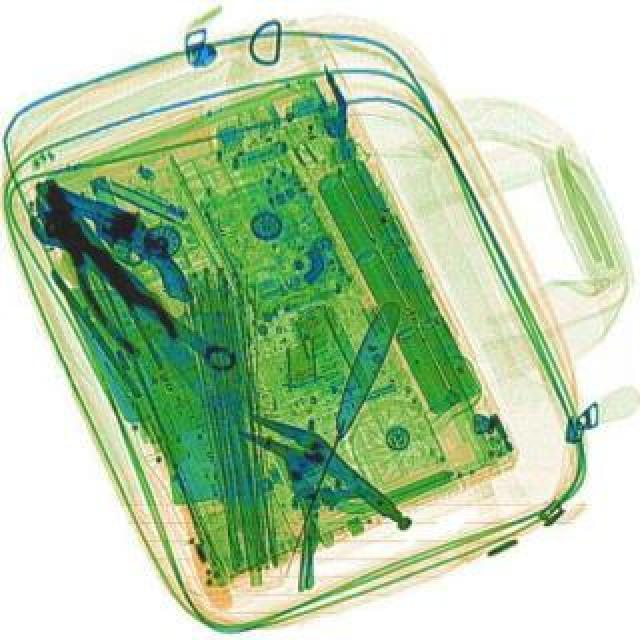gun: (16, 178, 212, 302)
knife: (26, 176, 238, 420), (272, 298, 402, 576)
scissors: (20, 198, 242, 376)
wrench: (20, 194, 188, 366)
